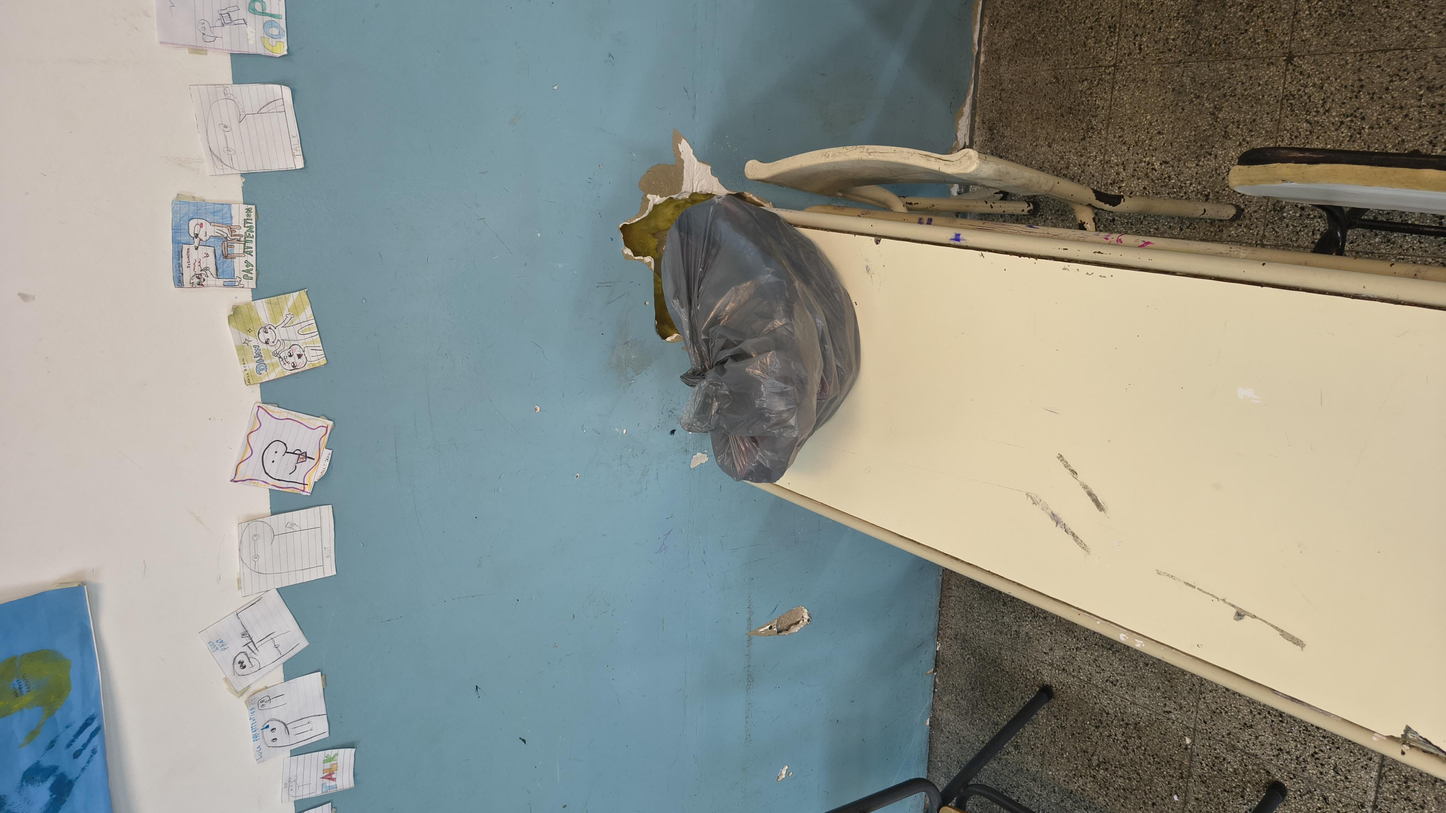Garbage: (527, 357, 1186, 496)
